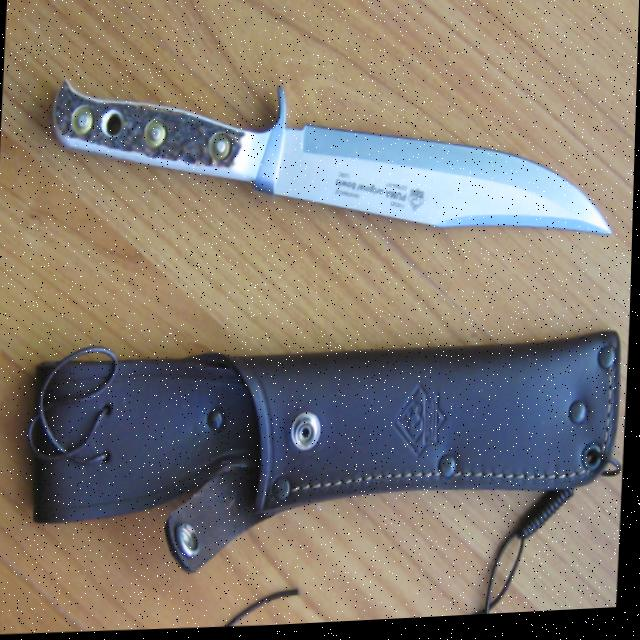knife: (44, 51, 623, 265)
